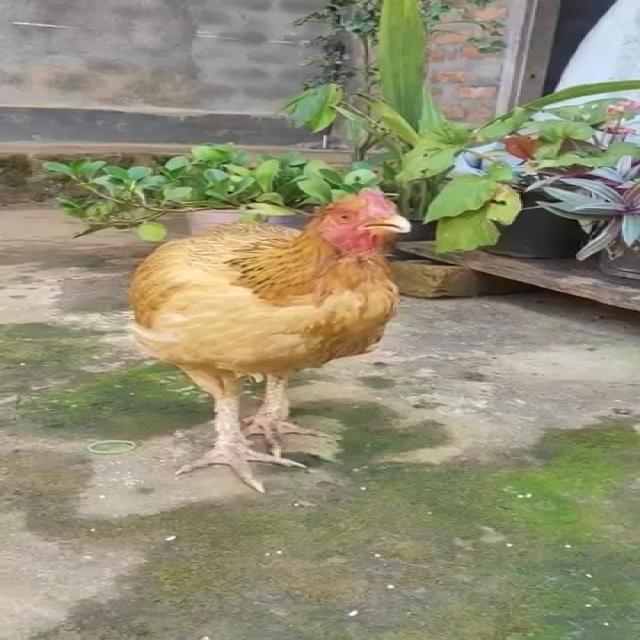Breathing: (124, 185, 414, 493)
